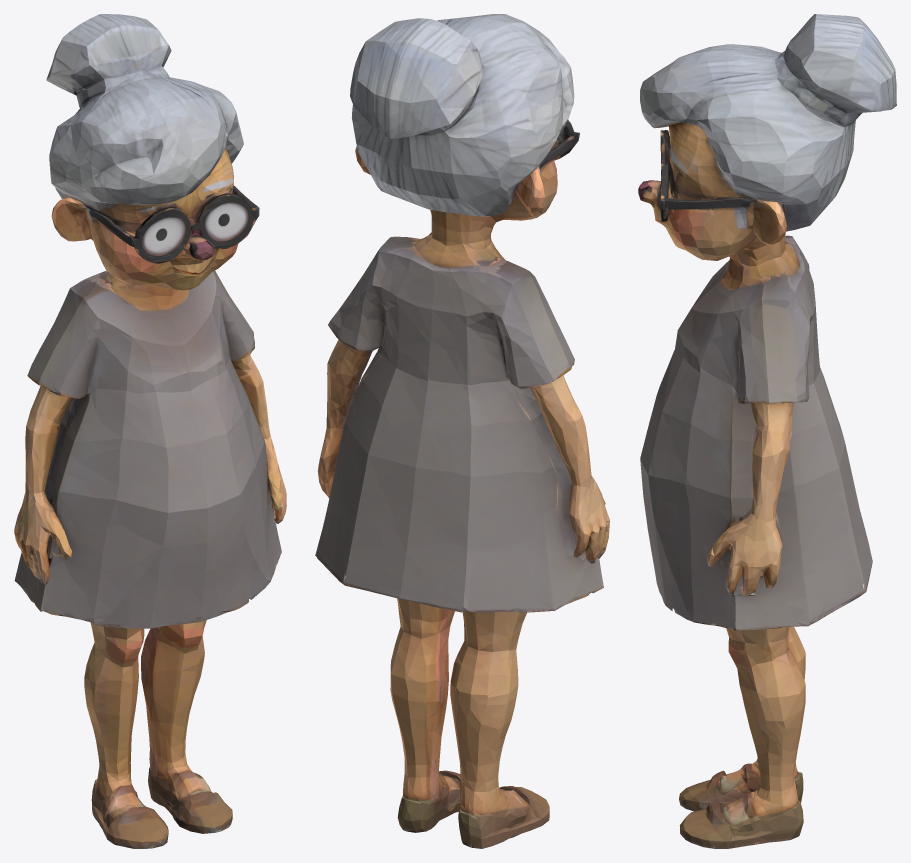
File: Low_poly_grandma_blo_0614144250_texture.fbx
3 renders of one model, left to right at view 1: azimuth 30°, elevation 25°; view 2: azimuth 150°, elevation 25°; view 3: azimuth 270°, elevation 25°, orthographic. The views are drawn at different scales.
Visible parts, largest first — view 1: temp; view 2: temp; view 3: temp.
Boxes of the visible parts, bbox=[...] form: temp: bbox=[14, 14, 286, 848]; temp: bbox=[315, 14, 609, 848]; temp: bbox=[638, 14, 896, 848].
Size of the model in its own units: 69.84 by 200 by 58.73.
Materials: 1 (1 with a texture image).
